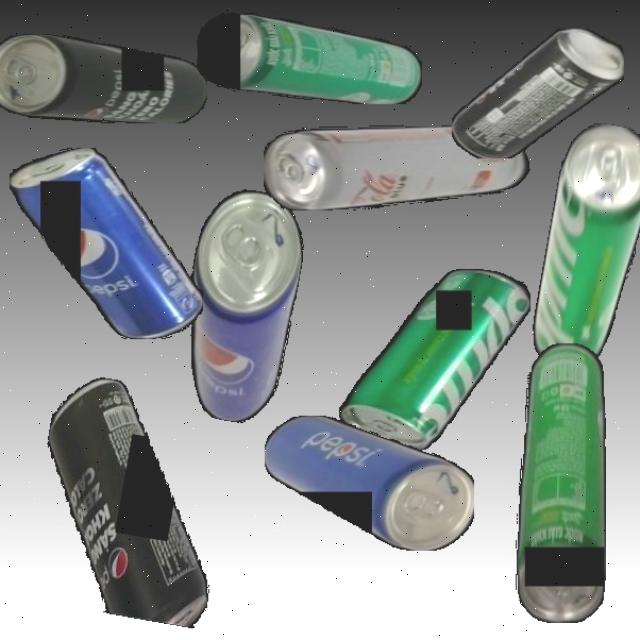debris: (21, 371, 242, 629), (9, 148, 203, 339), (168, 183, 313, 428), (338, 269, 531, 451), (527, 118, 640, 375), (264, 416, 474, 550), (515, 342, 606, 623), (264, 124, 532, 210), (452, 28, 624, 158), (197, 12, 422, 104), (0, 32, 207, 123)
